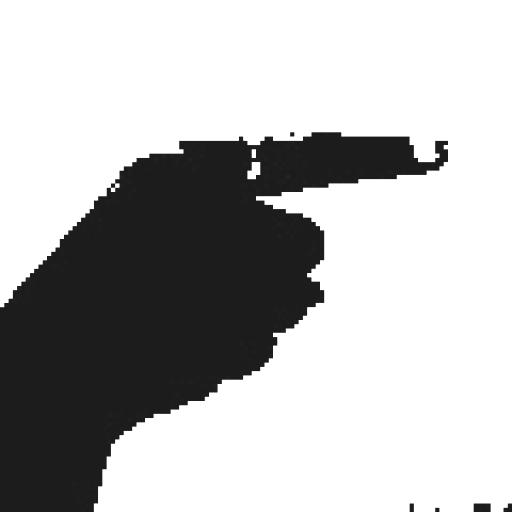index_left: (0, 130, 450, 397)
